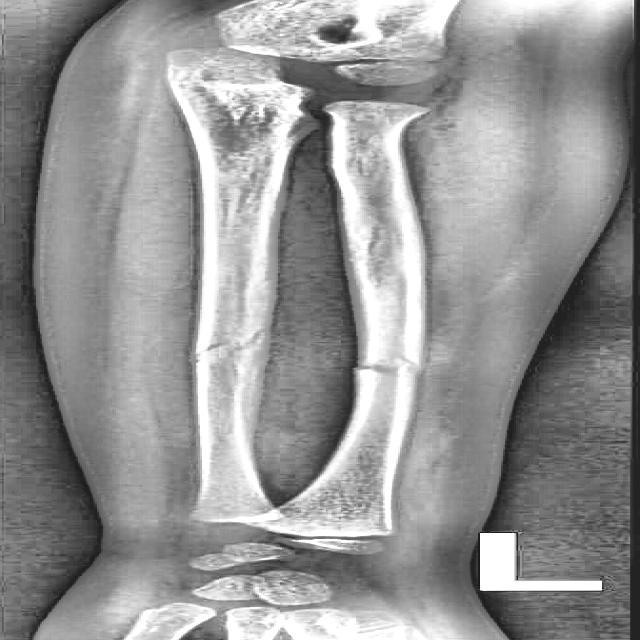fracture: (192, 328, 268, 364), (354, 357, 424, 376)
